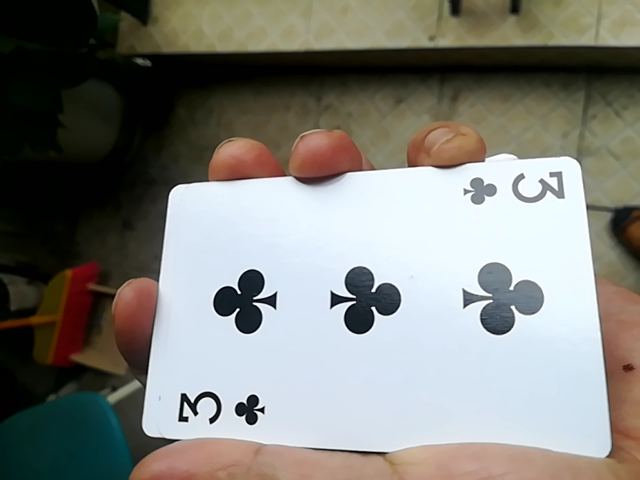mh 3: (127, 157, 614, 460)
